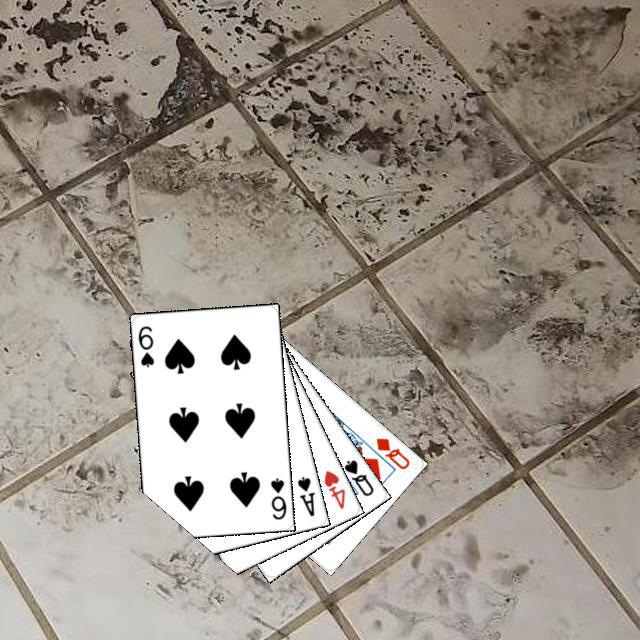4h: (319, 465, 347, 511)
6s: (265, 473, 288, 521), (133, 321, 155, 369)
As: (292, 471, 316, 518)
Qd: (371, 433, 411, 471)
Qs: (339, 455, 375, 498)
